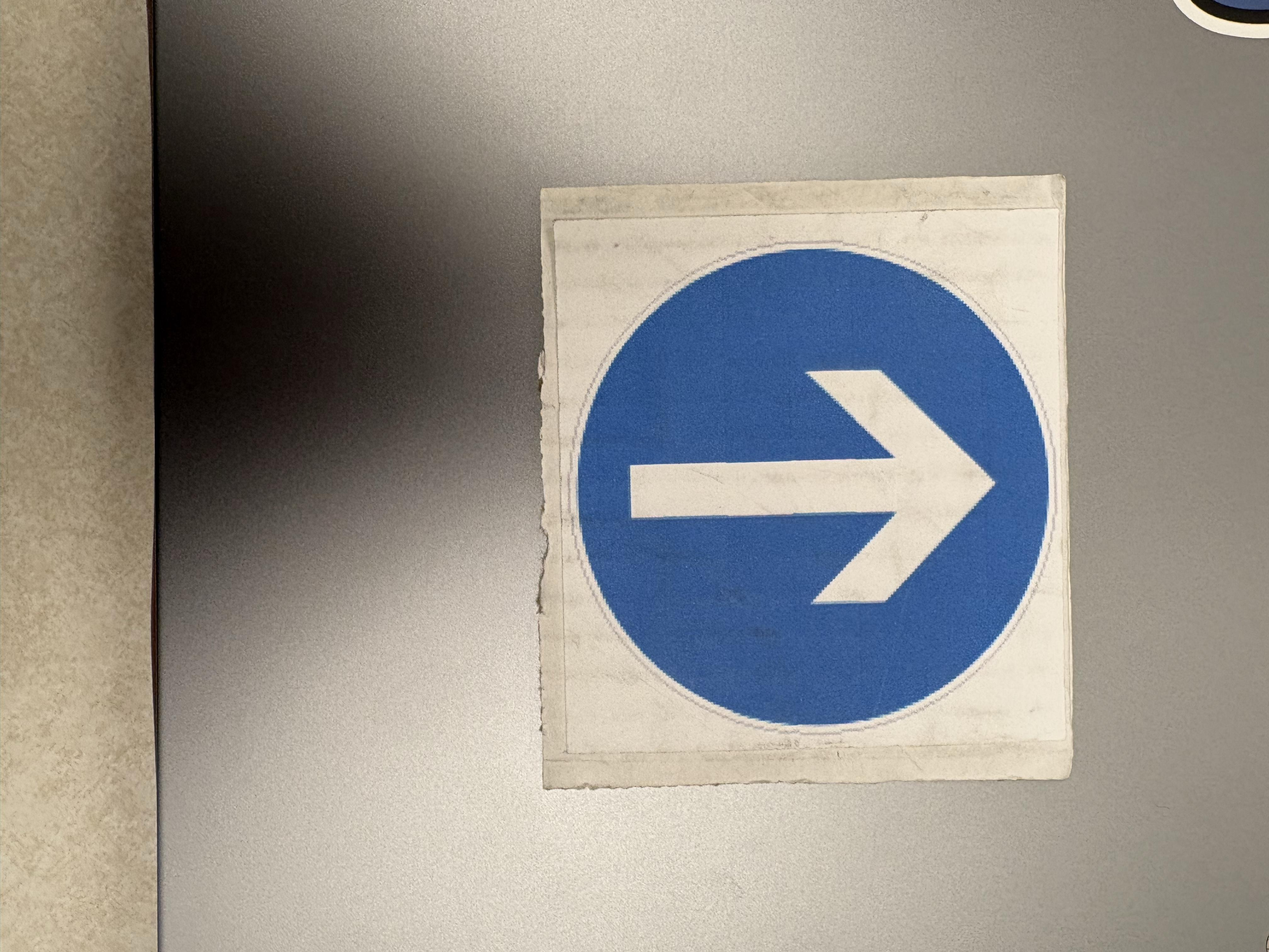Proceed Right: (544, 176, 1071, 794)
